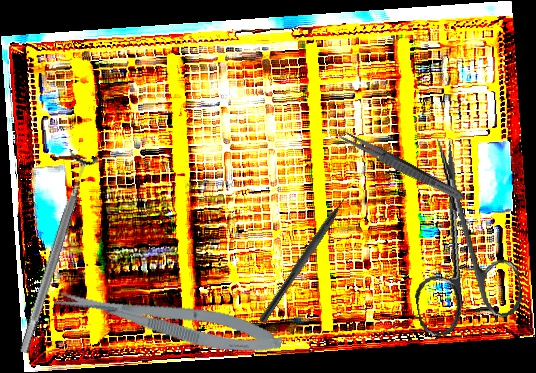Chopper: (259, 184, 362, 330)
Dressing Forceps: (334, 126, 468, 205)
Fixation Ring: (7, 148, 101, 358)
Iris Scissors: (388, 129, 528, 339)
Micro Scissor: (51, 273, 286, 365)
